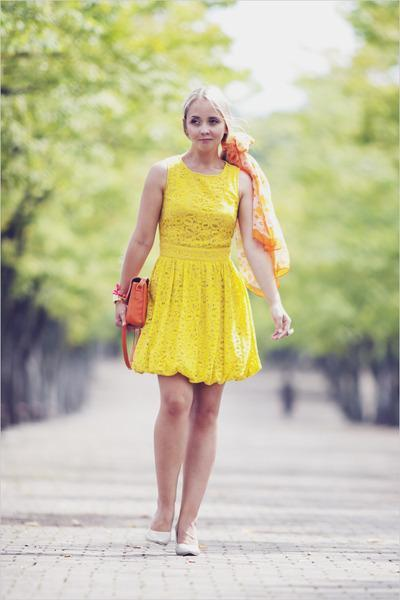bag: (116, 290, 154, 343)
dress: (132, 160, 261, 384)
shoe: (151, 520, 196, 557)
